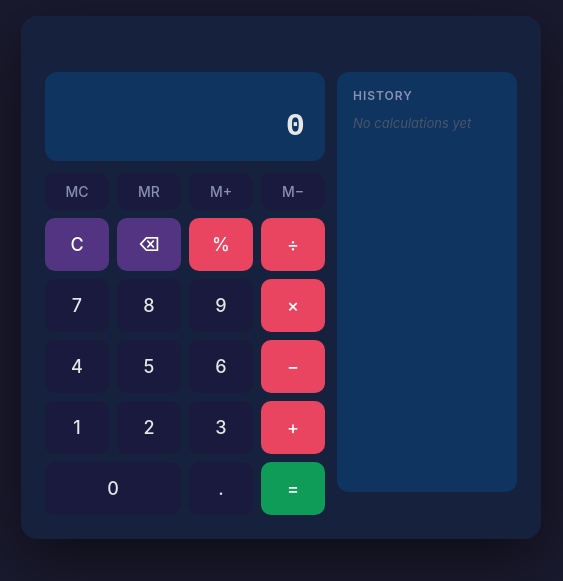
Calculator › shows Error for division by zero
What coordinates should you click on to do the following:
click the button "5"
I would click on:
 (149, 366)
Its box is x1=117 y1=340 x2=181 y2=392.
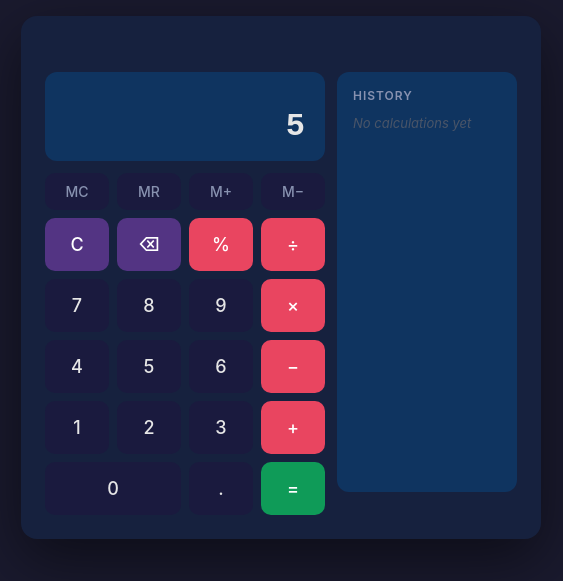
What coordinates should you click on to do the following:
click the button "÷"
I would click on:
 (293, 244)
Its box is x1=261 y1=218 x2=325 y2=270.
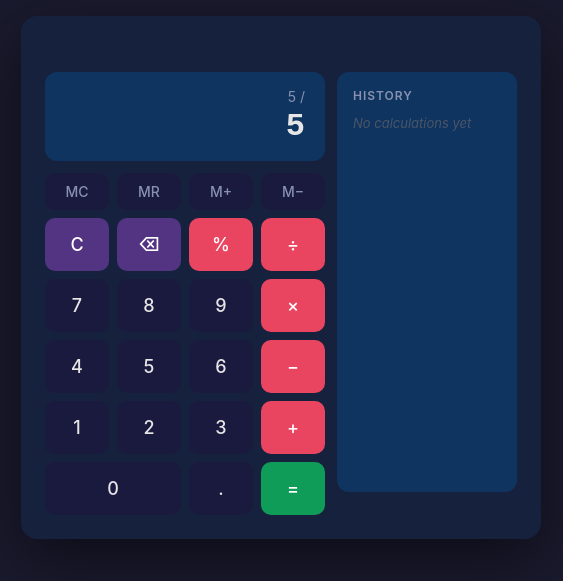
What coordinates should you click on to do the following:
click the button "0"
I would click on:
 (113, 488)
Its box is x1=45 y1=462 x2=181 y2=514.
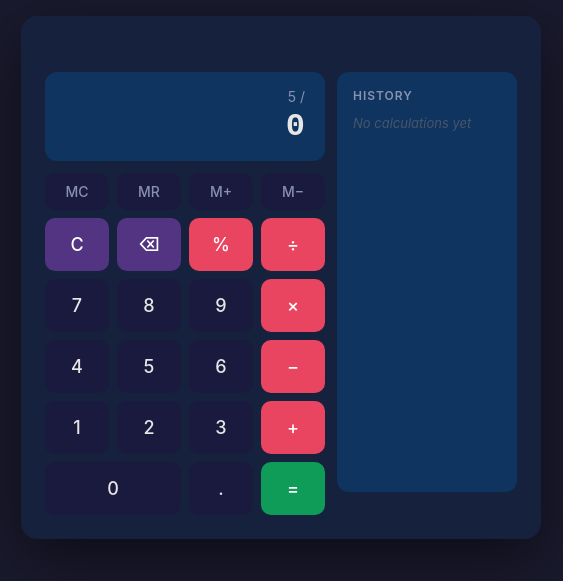
What coordinates should you click on to do the following:
click the button "="
I would click on:
 (293, 488)
Its box is x1=261 y1=462 x2=325 y2=514.
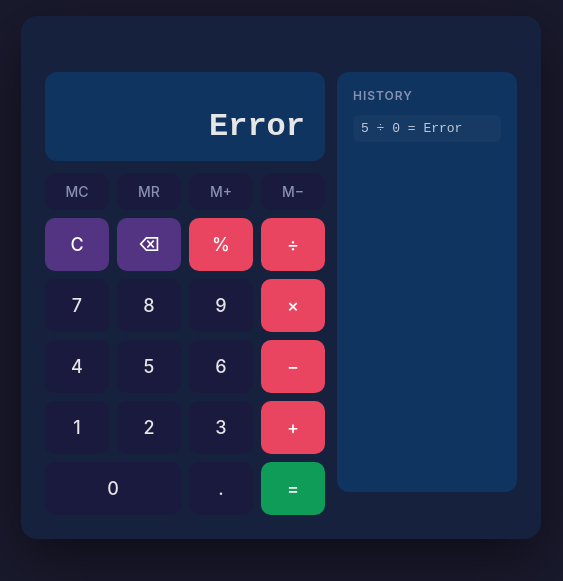
Result: the text with class "display-value" reads "Error" at x1=209 y1=108 x2=305 y2=144
